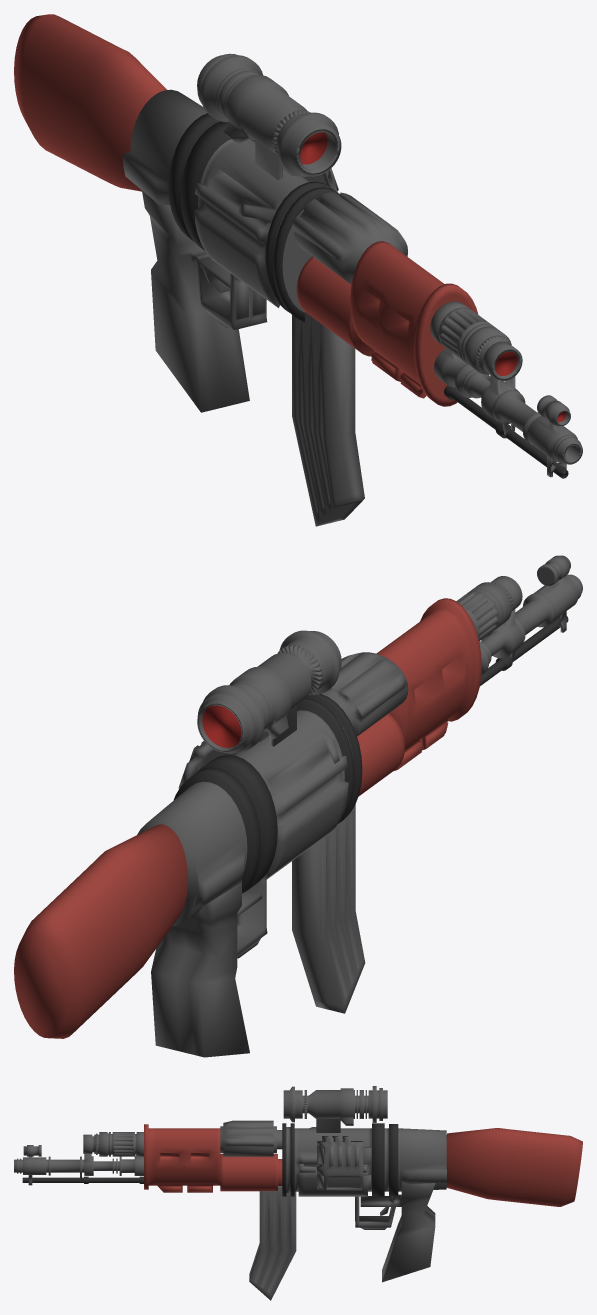
File: AK-47_Aksesoris_Scope1.fbx
The picture shows the model from 3 angles, top to bottom: view 1: azimuth 30°, elevation 25°; view 2: azimuth 150°, elevation 25°; view 3: azimuth 270°, elevation 25°; orthographic projection. The views are drawn at different scales.
Visible parts, largest first — view 1: Objek AK47 9, Objek AK47 11, Objek AK47 10, Objek AK47 12, Objek AK47 6, Cylinder, Objek AK47 7, Objek AK47 2, Objek AK47 1, Objek AK47 5, Objek AK47 3, Objek AK47 4; view 2: Objek AK47 9, Objek AK47 11, Objek AK47 10, Objek AK47 12, Cylinder, Objek AK47 6, Objek AK47 7, Objek AK47 2, Objek AK47 5, Objek AK47 1, Objek AK47 3, Objek AK47 4; view 3: Objek AK47 9, Objek AK47 11, Objek AK47 6, Objek AK47 10, Objek AK47 12, Cylinder, Objek AK47 5, Objek AK47 7, Objek AK47 2, Objek AK47 1, Objek AK47 3.
Boxes of the visible parts, x1,y1,x2,y2 form: Objek AK47 9: (122, 89, 340, 321); Objek AK47 11: (14, 14, 166, 191); Objek AK47 10: (142, 190, 267, 412); Objek AK47 12: (292, 312, 364, 526); Objek AK47 6: (350, 241, 478, 406); Cylinder: (197, 53, 341, 180); Objek AK47 7: (292, 192, 407, 284); Objek AK47 2: (434, 348, 582, 477); Objek AK47 1: (430, 301, 522, 380); Objek AK47 5: (296, 256, 373, 356); Objek AK47 3: (444, 385, 568, 478); Objek AK47 4: (537, 395, 570, 425); Objek AK47 9: (137, 694, 362, 926); Objek AK47 11: (14, 824, 187, 1038); Objek AK47 10: (151, 878, 267, 1057); Objek AK47 12: (292, 804, 365, 1013); Cylinder: (197, 630, 341, 753); Objek AK47 6: (376, 598, 481, 771); Objek AK47 7: (321, 652, 408, 736); Objek AK47 2: (479, 574, 582, 675); Objek AK47 5: (357, 713, 404, 796); Objek AK47 1: (456, 576, 522, 641); Objek AK47 3: (479, 615, 568, 686); Objek AK47 4: (537, 555, 570, 586); Objek AK47 9: (282, 1123, 446, 1196); Objek AK47 11: (446, 1128, 582, 1206); Objek AK47 6: (144, 1124, 220, 1192); Objek AK47 10: (355, 1181, 435, 1282); Objek AK47 12: (249, 1186, 296, 1300); Cylinder: (283, 1086, 387, 1132); Objek AK47 5: (220, 1154, 282, 1191); Objek AK47 7: (220, 1120, 282, 1156); Objek AK47 2: (14, 1153, 143, 1185); Objek AK47 1: (83, 1132, 143, 1156); Objek AK47 3: (22, 1176, 143, 1183).
Bounding box in the file's own units: 76.41 × 256 × 632.
